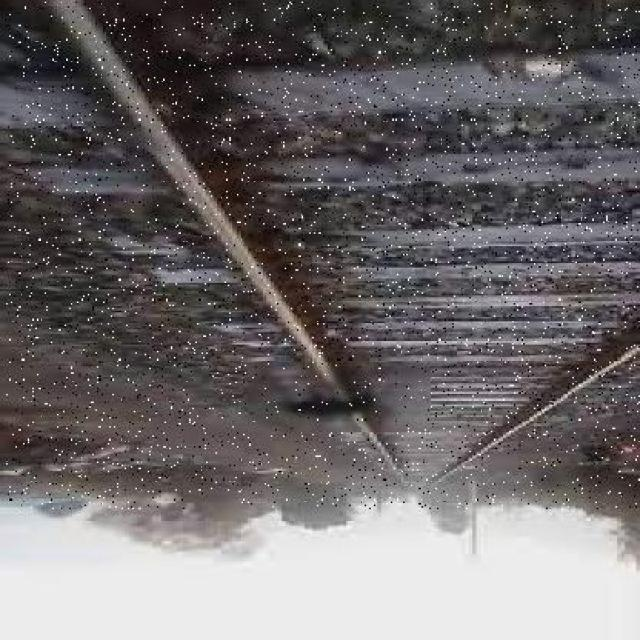danger: (248, 364, 430, 432)
rail: (6, 2, 640, 509)
